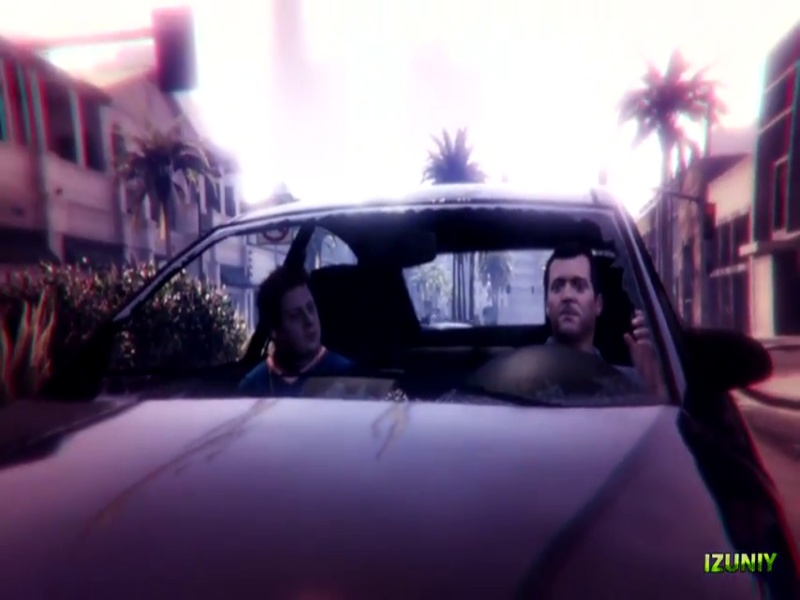licenseplate: (361, 249, 388, 259)
